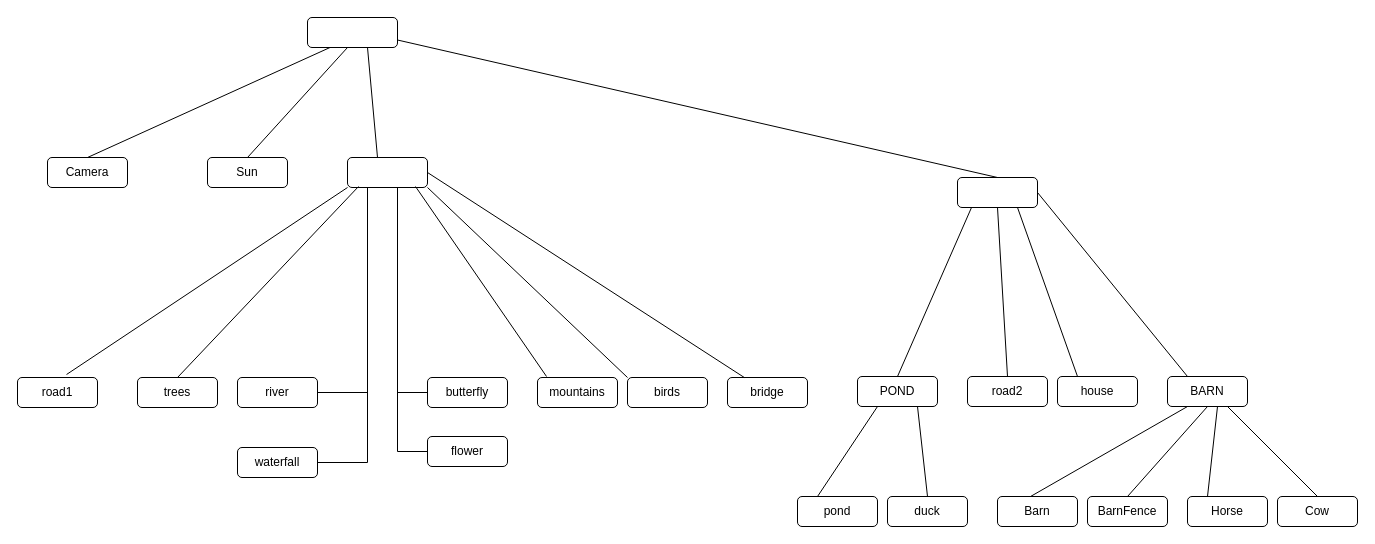
The diagram is 1375 pixels wide and 544 high, and some of its shapes have lost their labels. Here are the shapes that lost their labels. From the top down, the box of each, then its label:
(306, 16, 398, 48): Scene root
(346, 156, 428, 188): Platform1
(956, 176, 1038, 208): Platform2
